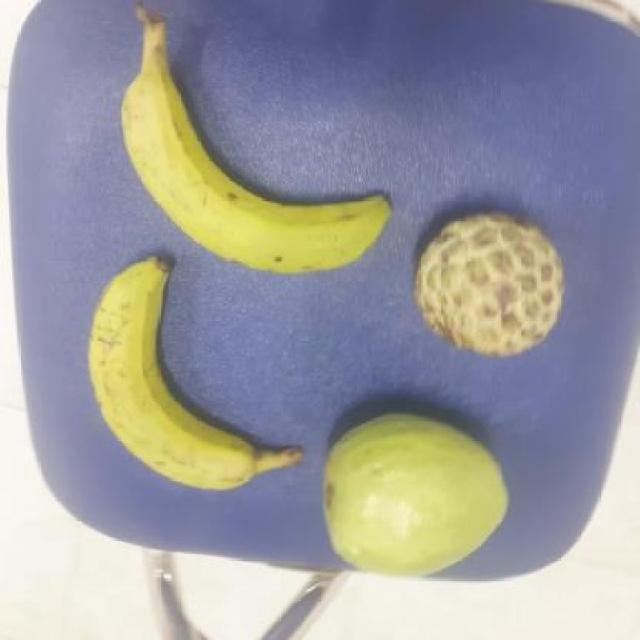banana: (133, 48, 409, 269), (90, 260, 304, 488)
guava: (320, 408, 509, 582)
sugar apple: (412, 211, 571, 354)
